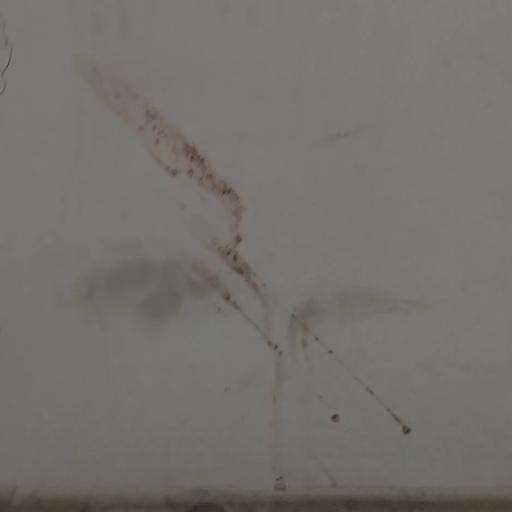stain: (59, 54, 448, 502)
